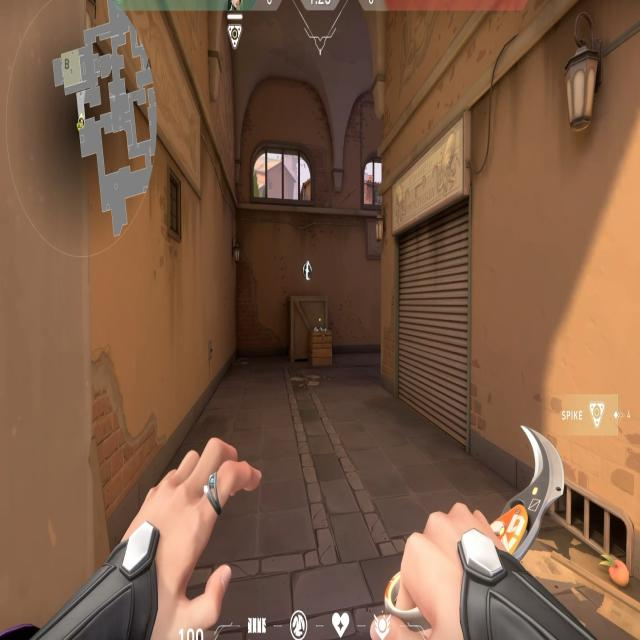B_Main_Wallbang: (274, 250, 337, 373)
Throwables: (242, 134, 326, 211), (357, 150, 384, 214)
